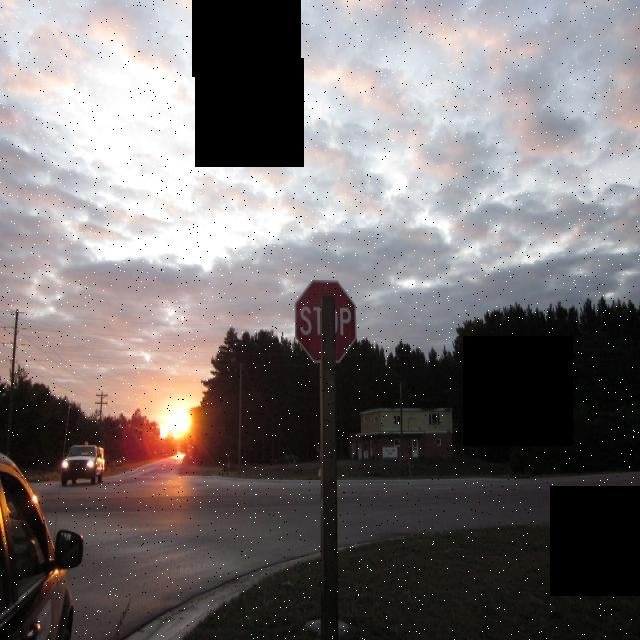stop: (290, 272, 358, 372)
